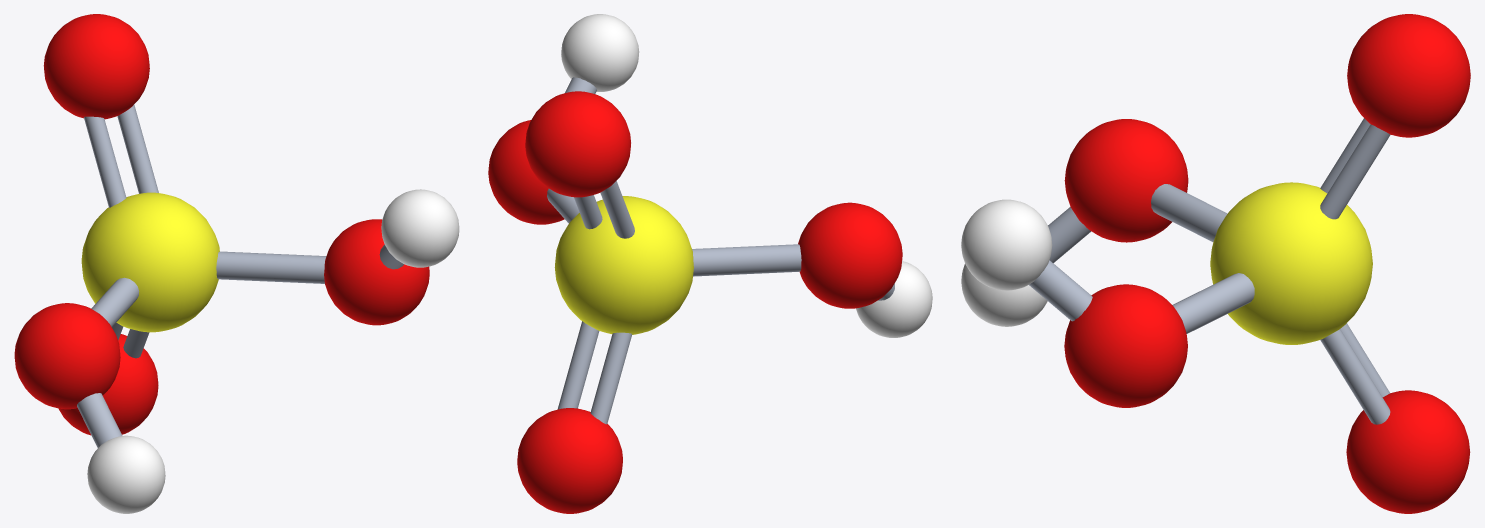
3 views of the same model, side by side, from view 1: azimuth 30°, elevation 25°; view 2: azimuth 150°, elevation 25°; view 3: azimuth 270°, elevation 25° (orthographic). The views are drawn at different scales.
Visible parts, largest first — view 1: O (×4), S, bond (×6), H (×2); view 2: O (×4), S, bond (×6), H (×2); view 3: O (×4), S, bond (×8), H (×2).
Boxes of the visible parts, x1,y1,x2,y2 form: O (×4): [14, 14, 429, 435]; S: [81, 192, 219, 332]; bond (×6): [77, 104, 326, 447]; H (×2): [87, 189, 459, 513]; O (×4): [488, 91, 902, 513]; S: [554, 196, 693, 334]; bond (×6): [547, 181, 801, 424]; H (×2): [561, 14, 932, 337]; O (×4): [1064, 14, 1470, 513]; S: [1210, 182, 1372, 344]; bond (×8): [1029, 118, 1390, 424]; H (×2): [961, 199, 1052, 326].
Size of the model in its own units: 0.22 by 0.2178 by 0.208.
